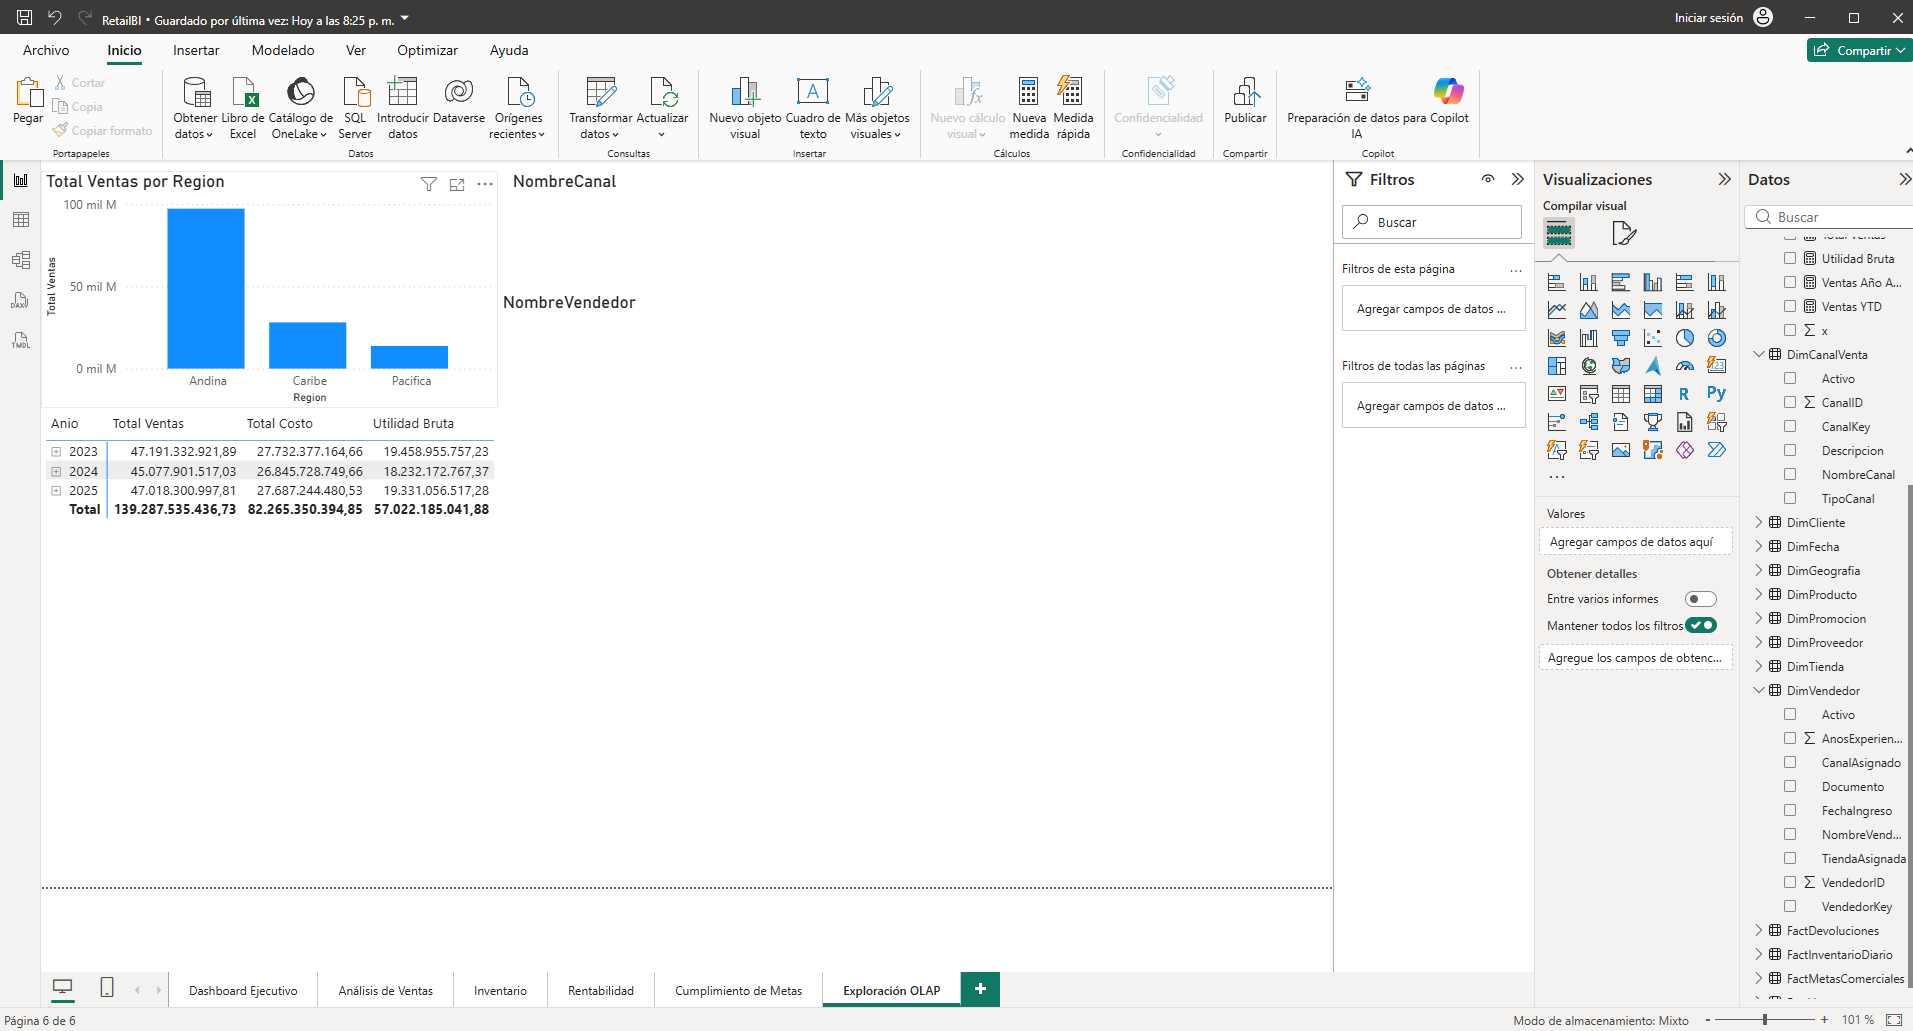

The page's visual inventory and layout, read from the dashboard file:
{"tool":"powerbi","page":{"name":"Exploración OLAP","canvas":[1280,720],"ordinal":5},"visuals":[{"type":"pivotTable","fields":{"Rows":["DimFecha.Anio","DimFecha.Trimestre","DimFecha.NombreMes"],"Values":["_Medidas.Total Ventas","_Medidas.Total Costo","_Medidas.Utilidad Bruta"]},"box":[0,245.7,508.2,136.7],"z":0},{"type":"columnChart","fields":{"Category":["DimTienda.Region"],"Y":["_Medidas.Total Ventas"]},"box":[0,10.9,452.8,234.8],"z":1000},{"type":"funnel","fields":{"Category":["DimCanalVenta.NombreCanal"]},"box":[462.7,10.9,141.7,117.9],"z":1001},{"type":"funnel","fields":{"Category":["DimVendedor.NombreVendedor"]},"box":[452.8,130.8,151.6,114.9],"z":1002}]}

Visuals, with their boxes on the page's 1280x720 design canvas (x1, y1, x2, y2). These are canvas units, not pixel positions in the 1913x1031 screenshot, which may show the page scaled, cropped or inside an application window:
pivotTable - DimFecha.Anio x DimFecha.Trimestre: (left=0, top=246, right=508, bottom=382)
columnChart - DimTienda.Region x _Medidas.Total Ventas: (left=0, top=11, right=453, bottom=246)
funnel - DimCanalVenta.NombreCanal: (left=463, top=11, right=604, bottom=129)
funnel - DimVendedor.NombreVendedor: (left=453, top=131, right=604, bottom=246)
